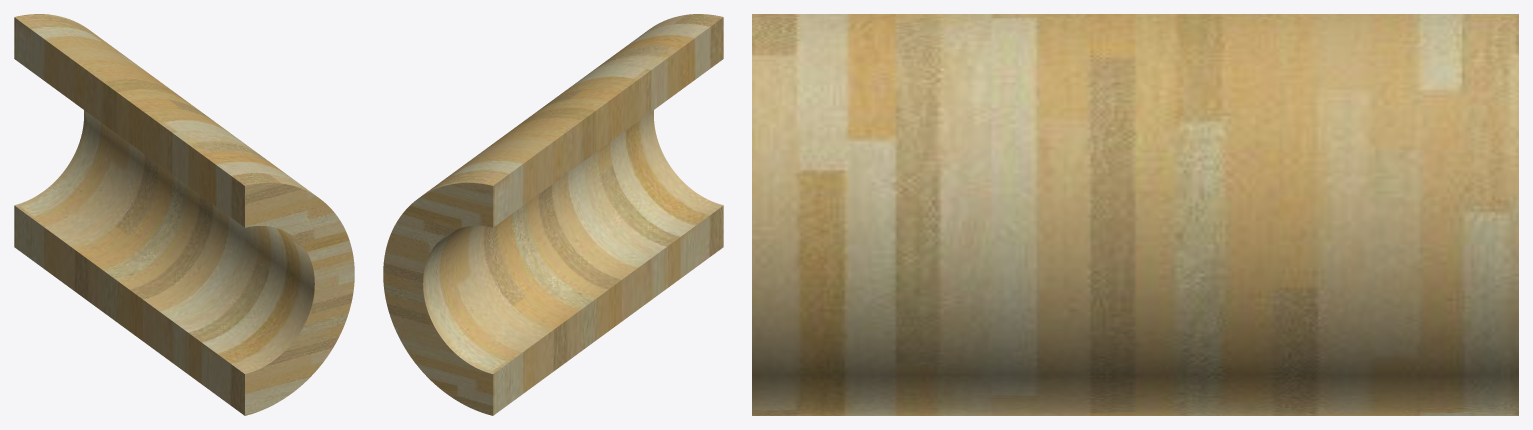
File: Ramp180.dae
The picture shows the model from 3 angles, left to right: view 1: azimuth 30°, elevation 25°; view 2: azimuth 150°, elevation 25°; view 3: azimuth 270°, elevation 25°; orthographic projection. The views are drawn at different scales.
Parts seen in each view (by area): view 1: Component_18; view 2: Component_18; view 3: Component_18.
Boxes of the visible parts, left/top/right/bottom form: Component_18: left=14, top=14, right=354, bottom=415; Component_18: left=383, top=14, right=723, bottom=415; Component_18: left=752, top=14, right=1518, bottom=415.
Bounding box in the file's own units: 10.83 × 39.37 × 21.65.
Materials: 1 (1 with a texture image).
